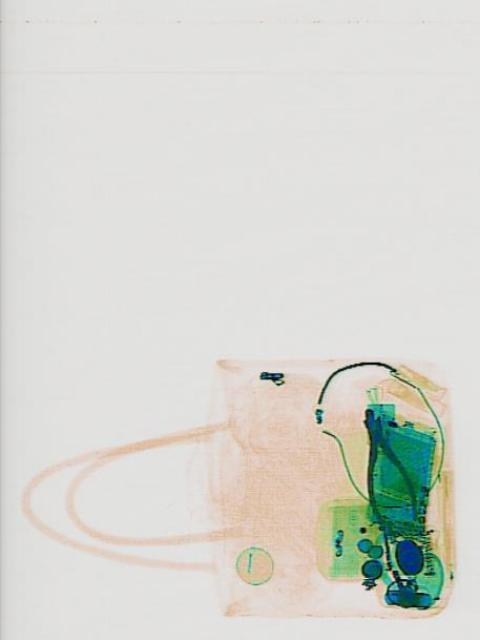Pliers: (344, 399, 421, 536)
